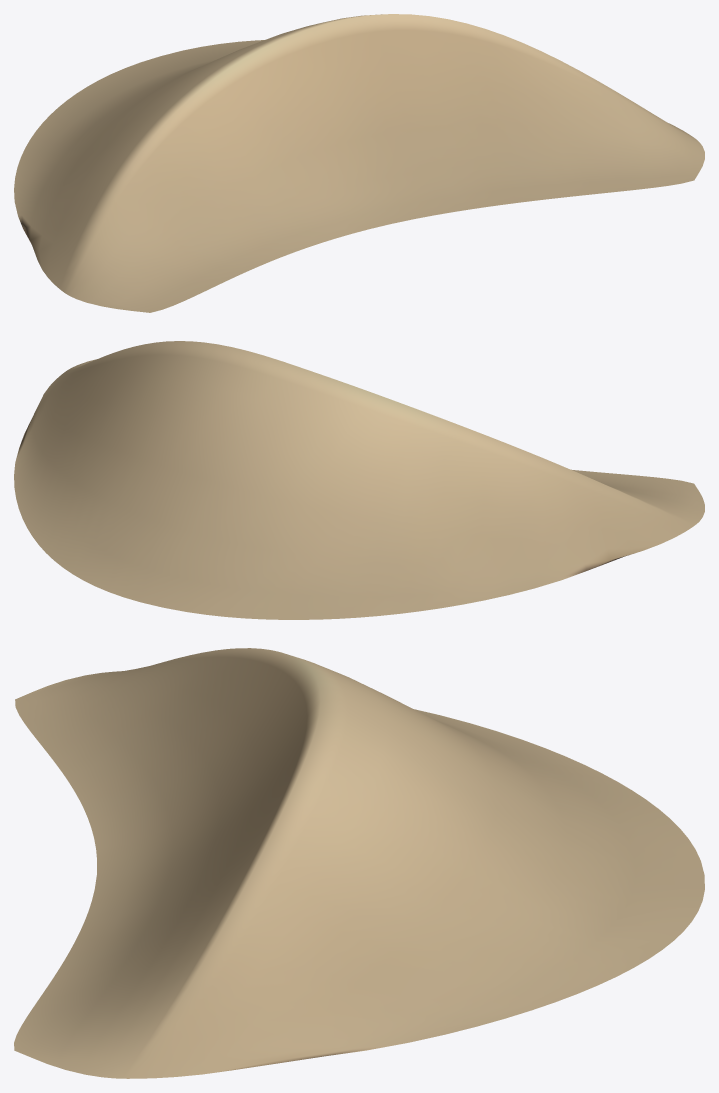
Rendered from SandDune2.fbx.
3 renders of one model, top to bottom at view 1: azimuth 30°, elevation 25°; view 2: azimuth 150°, elevation 25°; view 3: azimuth 270°, elevation 25°, orthographic. The views are drawn at different scales.
Visible parts, largest first — view 1: SandDune2; view 2: SandDune2; view 3: SandDune2.
Part boxes in pixels (left/top/right/bottom): SandDune2: left=14, top=14, right=704, bottom=312; SandDune2: left=14, top=341, right=704, bottom=619; SandDune2: left=14, top=648, right=704, bottom=1078.
Size of the model in its own units: 12 by 2.44 by 8.6.
